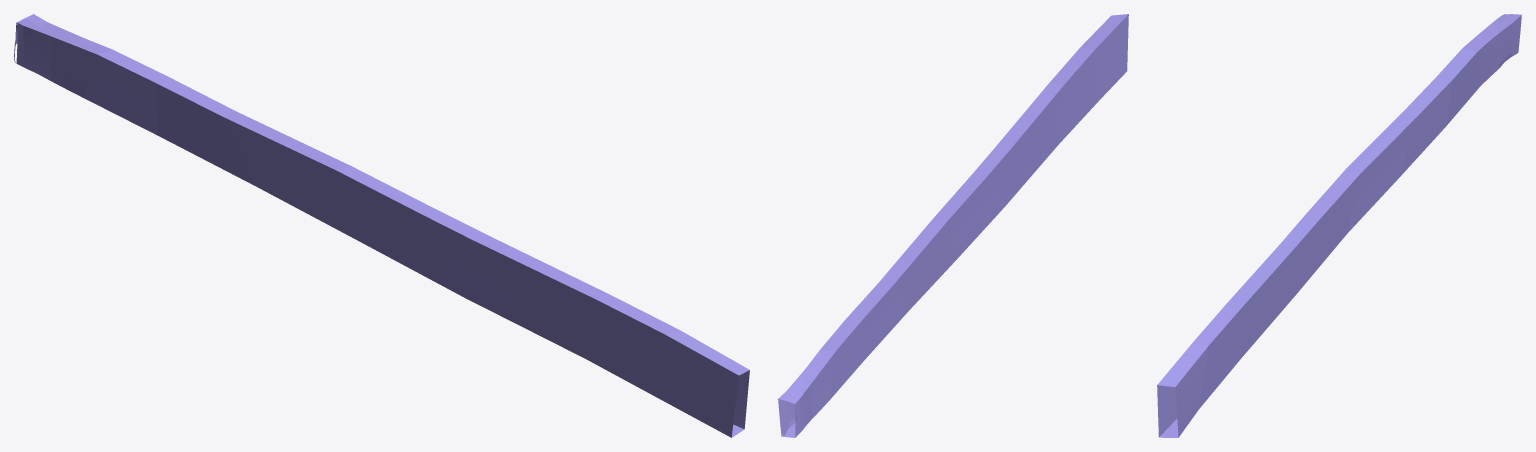
Rendered from glasses_5_temple_right.obj.
The picture shows the model from 3 angles, left to right: view 1: azimuth 30°, elevation 25°; view 2: azimuth 150°, elevation 25°; view 3: azimuth 330°, elevation 25°; orthographic projection. The views are drawn at different scales.
Visible parts, largest first — view 1: Cube.006; view 2: Cube.006; view 3: Cube.006.
Boxes of the visible parts, x1,y1,x2,y2 form: Cube.006: (14,14,749,437); Cube.006: (778,14,1128,437); Cube.006: (1157,14,1521,437).
Size of the model in its own units: 0.0102 by 0.00371 by 0.0556.
